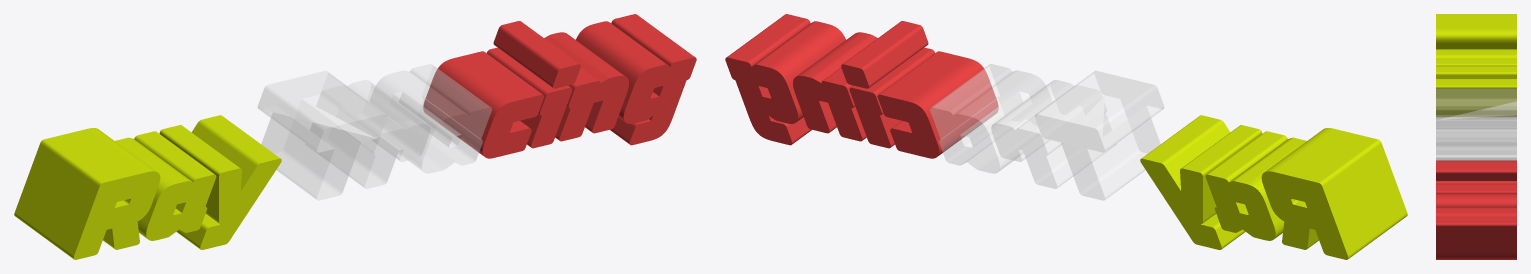
File: RayTracing.gltf
3 renders of one model, left to right at view 1: azimuth 30°, elevation 25°; view 2: azimuth 150°, elevation 25°; view 3: azimuth 270°, elevation 25°, orthographic. The views are drawn at different scales.
Parts seen in each view (by area): view 1: Text.002, Text, Text.003; view 2: Text.002, Text, Text.003; view 3: Text, Text.002, Text.003.
Boxes of the visible parts, x1=… form: Text.002: x1=423, y1=14, x2=696, y2=158; Text: x1=14, y1=115, x2=281, y2=259; Text.003: x1=258, y1=64, x2=491, y2=200; Text.002: x1=725, y1=14, x2=998, y2=158; Text: x1=1140, y1=115, x2=1407, y2=259; Text.003: x1=930, y1=64, x2=1163, y2=200; Text: x1=1436, y1=14, x2=1516, y2=116; Text.002: x1=1436, y1=160, x2=1516, y2=259; Text.003: x1=1436, y1=88, x2=1516, y2=160.
Size of what is drawn, in the model's own units: 5.75 by 0.8303 by 0.95.
